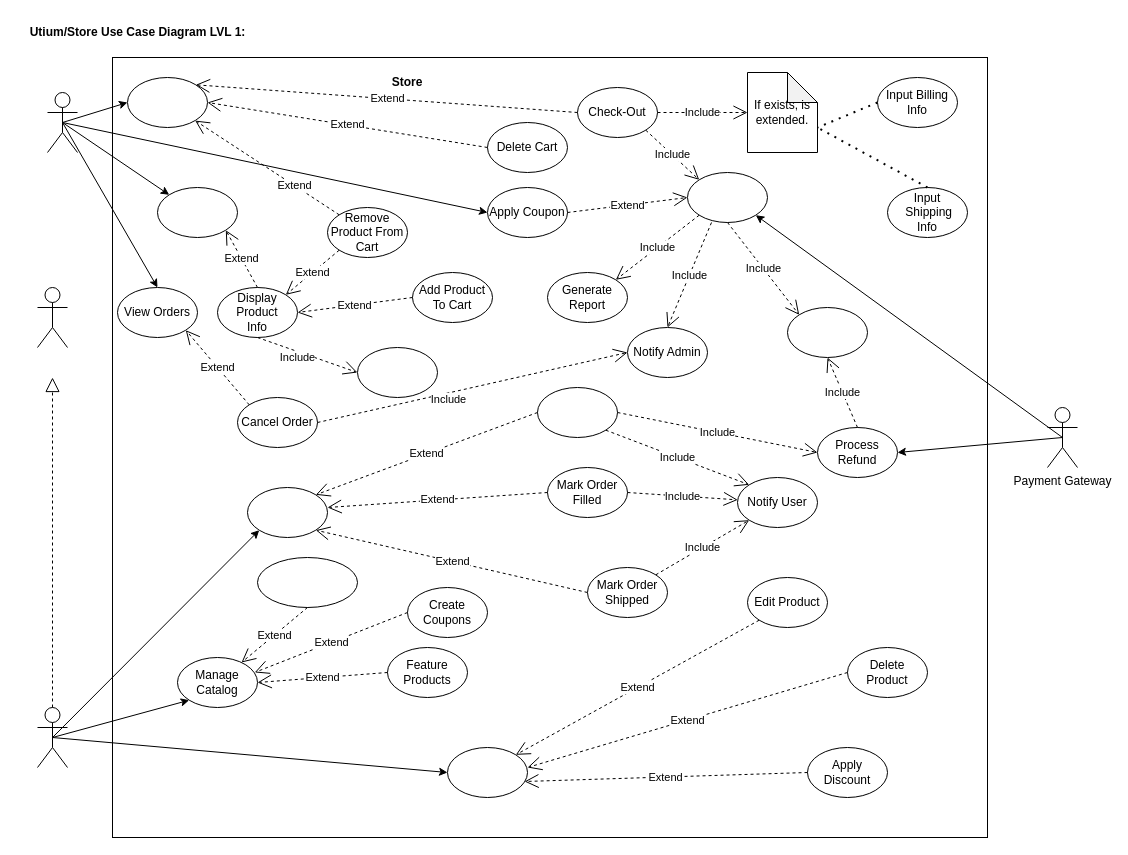
The diagram is 1128 pixels wide and 855 high, and some of its shapes have lost their labels. The shapes that lost their labels are listed below. From the top down, each one's centre as x and y in pixels, then its label:
point 62,122: User
point 167,102: View Cart
point 197,212: Display Catalog
point 727,197: Process Payment
point 52,317: SuperAdmin
point 827,332: Give Invoice
point 397,372: Display Suggested Item
point 577,412: Create Refund
point 287,512: Manage Orders
point 307,582: Edit Catagorization
point 52,737: Admin
point 487,772: Add Product
